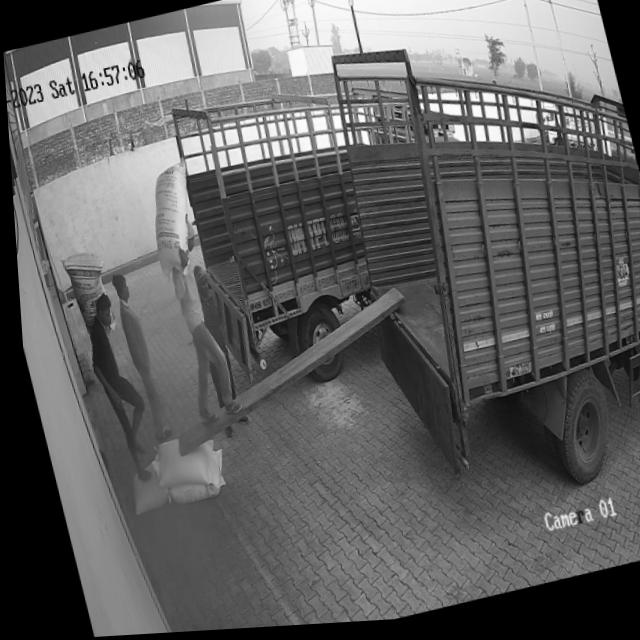sack: (135, 161, 206, 281), (56, 249, 115, 343), (141, 430, 215, 496), (154, 449, 225, 509), (116, 458, 164, 516)
